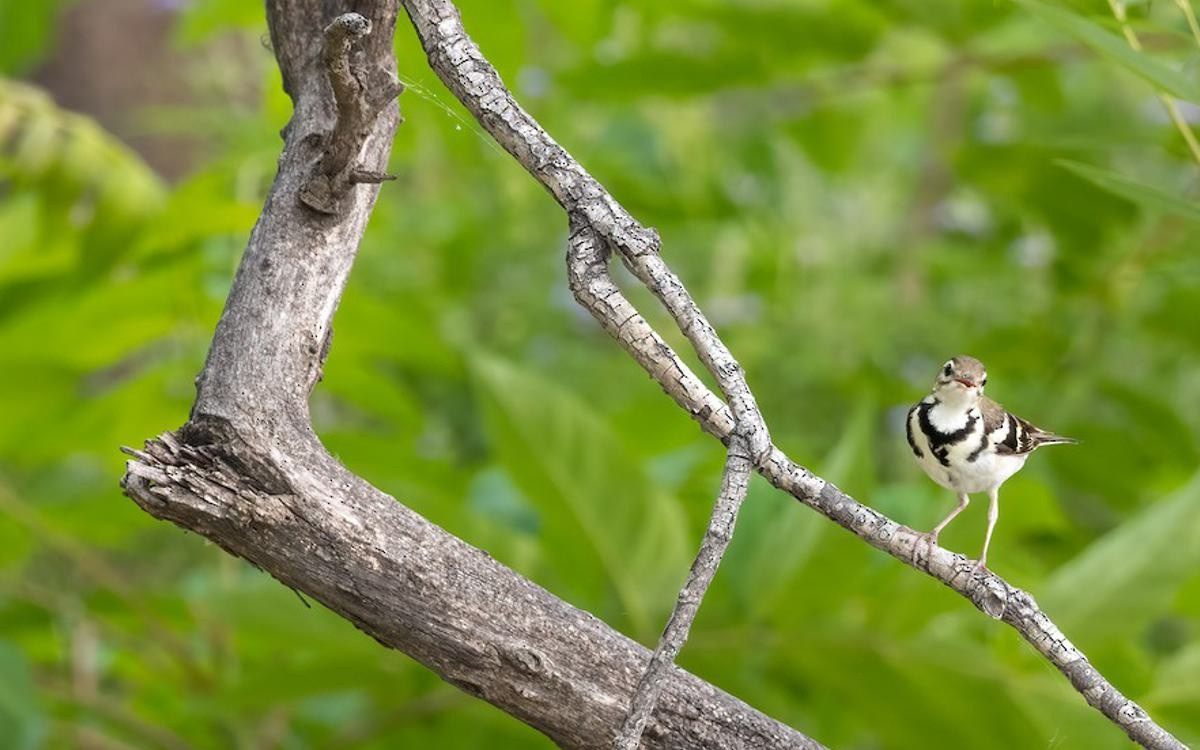wagtail: (908, 331, 1045, 558)
